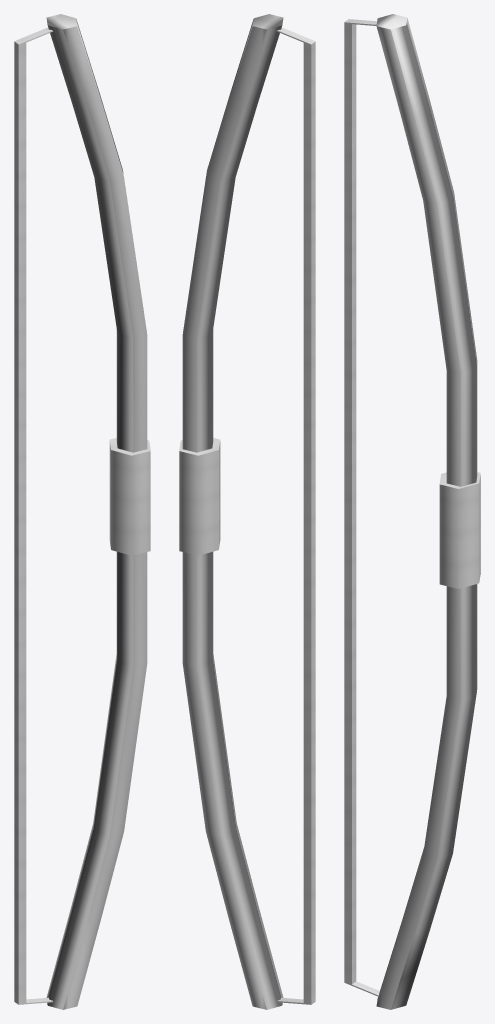
Rendered from bow_great.obj.
The picture shows the model from 3 angles, left to right: view 1: azimuth 30°, elevation 25°; view 2: azimuth 150°, elevation 25°; view 3: azimuth 330°, elevation 25°; orthographic projection.
Parts seen in each view (by area): view 1: continuous_greatbow_limb, string_and_tip_connections, grip; view 2: continuous_greatbow_limb, string_and_tip_connections, grip; view 3: continuous_greatbow_limb, string_and_tip_connections, grip.
Boxes of the visible parts, x1,y1,x2,y2 form: continuous_greatbow_limb: (46, 14, 147, 1009); string_and_tip_connections: (14, 27, 53, 1004); grip: (109, 438, 150, 555); continuous_greatbow_limb: (182, 14, 283, 1009); string_and_tip_connections: (276, 27, 315, 1004); grip: (179, 438, 220, 555); continuous_greatbow_limb: (376, 14, 477, 1009); string_and_tip_connections: (344, 19, 379, 996); grip: (439, 472, 480, 588).
Size of the model in its own units: 0.139 by 0.98 by 0.04.
